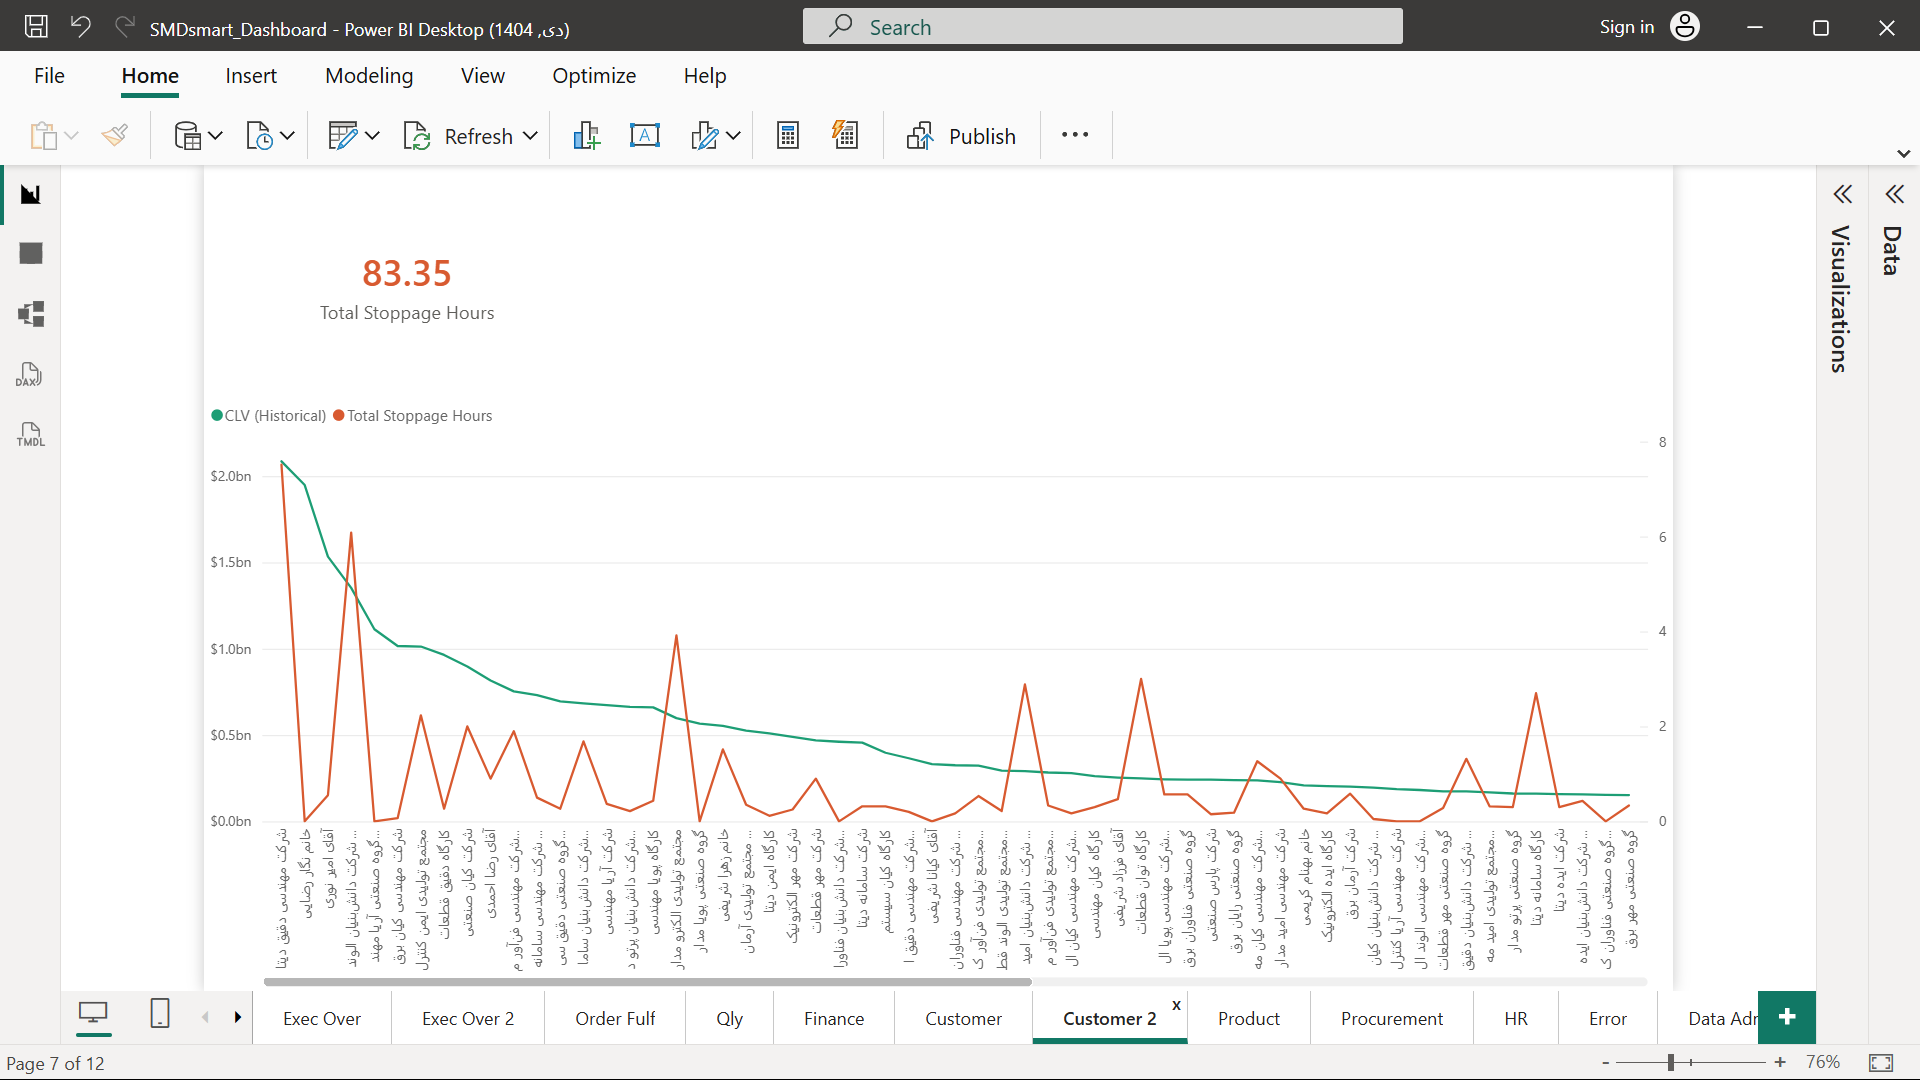

Layout of this report page (visuals, bound fields, positions):
{"tool":"powerbi","page":{"name":"Customer 2","canvas":[1280,720],"ordinal":6},"visuals":[{"type":"lineChart","fields":{"Category":["DimCustomer.CustomerName"],"Y":["_Measures (2).CLV (Historical)"],"Y2":["_Measures (2).Total Stoppage Hours"]},"box":[0,196.8,1280,523.4],"z":0},{"type":"card","fields":{"Values":["_Measures (2).Total Stoppage Hours"]},"box":[46.7,43.7,259.5,121],"z":9000}]}

Visuals, with their boxes on the page's 1280x720 design canvas (x1, y1, x2, y2). These are canvas units, not pixel positions in the 1920x1080 screenshot, which may show the page scaled, cropped or inside an application window:
lineChart - DimCustomer.CustomerName x _Measures (2).CLV (Historical): [left=0, top=197, right=1280, bottom=720]
card - _Measures (2).Total Stoppage Hours: [left=47, top=44, right=306, bottom=165]
